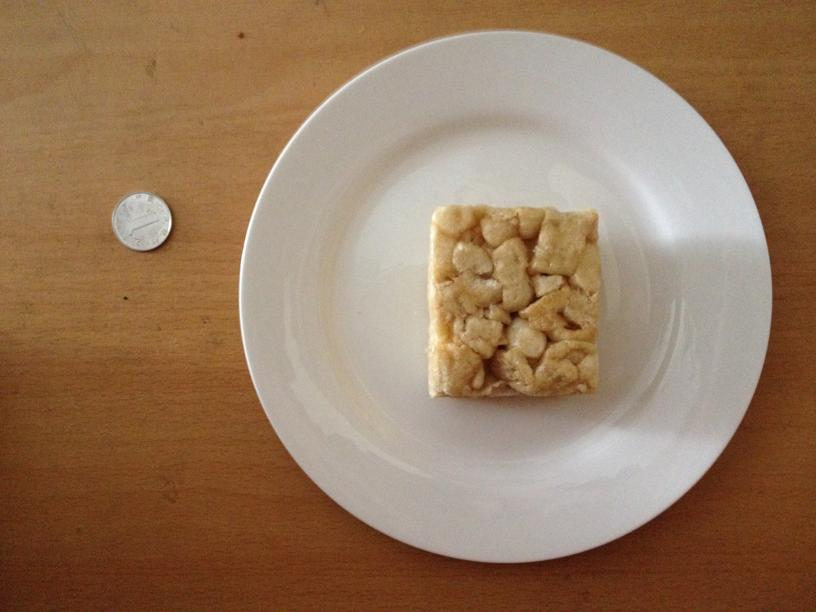coin: (106, 188, 172, 251)
sachima: (423, 203, 602, 401)
